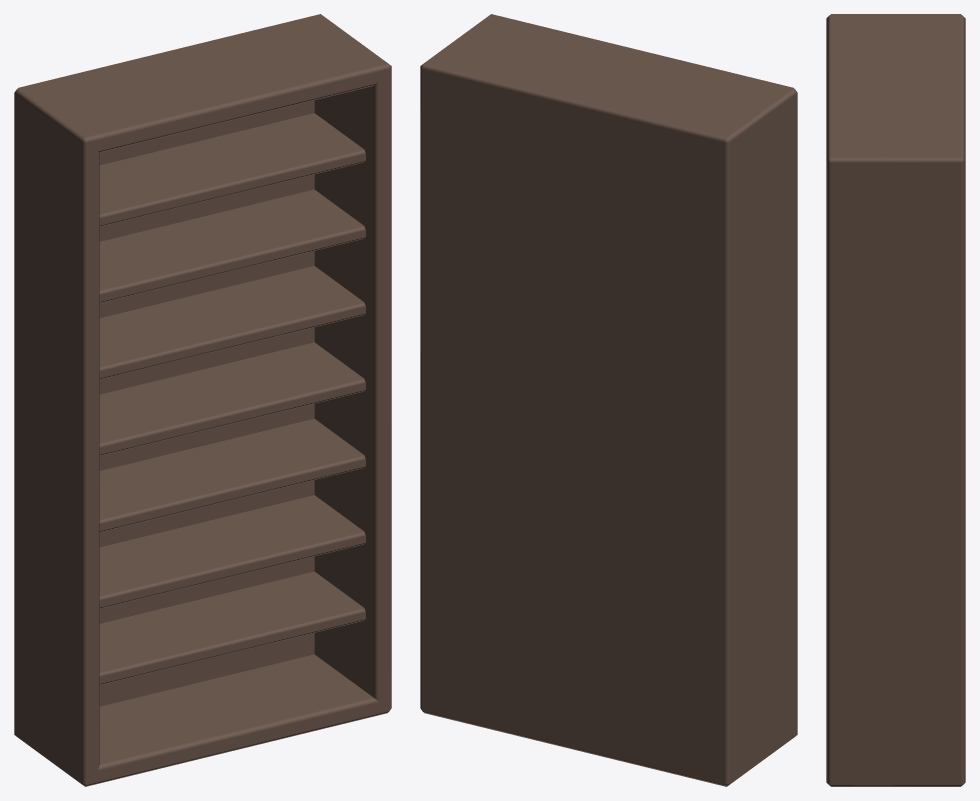
The model's file is Prop_Bookshelf_Empty_A_Mesh.fbx.
3 renders of one model, left to right at view 1: azimuth 30°, elevation 25°; view 2: azimuth 150°, elevation 25°; view 3: azimuth 270°, elevation 25°, orthographic. The views are drawn at different scales.
Visible parts, largest first — view 1: Prop_Bookshelf_Empty_A_Mesh; view 2: Prop_Bookshelf_Empty_A_Mesh; view 3: Prop_Bookshelf_Empty_A_Mesh.
Part boxes in pixels (x1=…): Prop_Bookshelf_Empty_A_Mesh: x1=14, y1=14, x2=391, y2=786; Prop_Bookshelf_Empty_A_Mesh: x1=420, y1=14, x2=797, y2=786; Prop_Bookshelf_Empty_A_Mesh: x1=826, y1=14, x2=965, y2=786.
Size of the model in its own units: 2.5 by 5 by 1.
